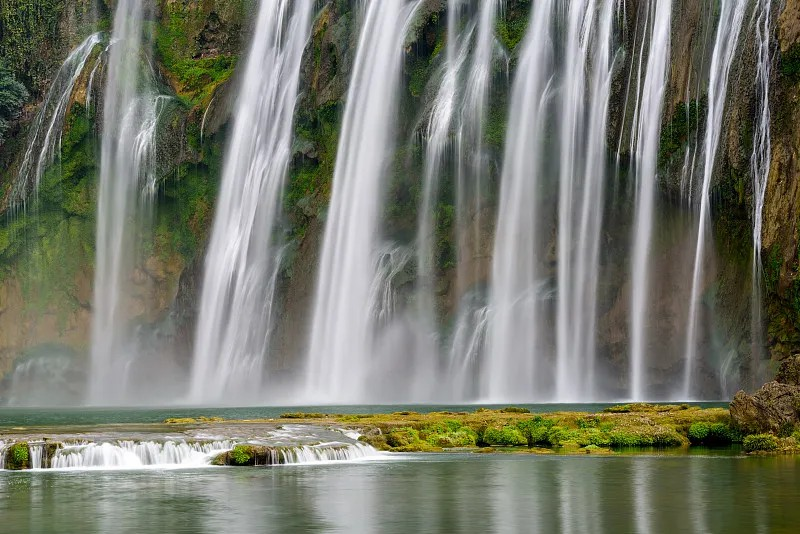Huangguoshu: (92, 1, 771, 408)
